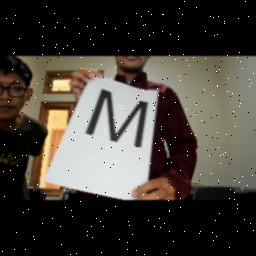m: (82, 88, 154, 150)
